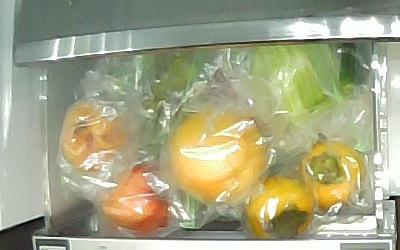apple_vinyl: (102, 162, 172, 234)
grapefruit_vinyl: (167, 110, 269, 202)
lettuce_vinyl: (252, 42, 341, 115)
peach_vinyl: (61, 104, 127, 174)
persimmon_vinyl: (299, 139, 365, 207), (243, 176, 313, 238)
